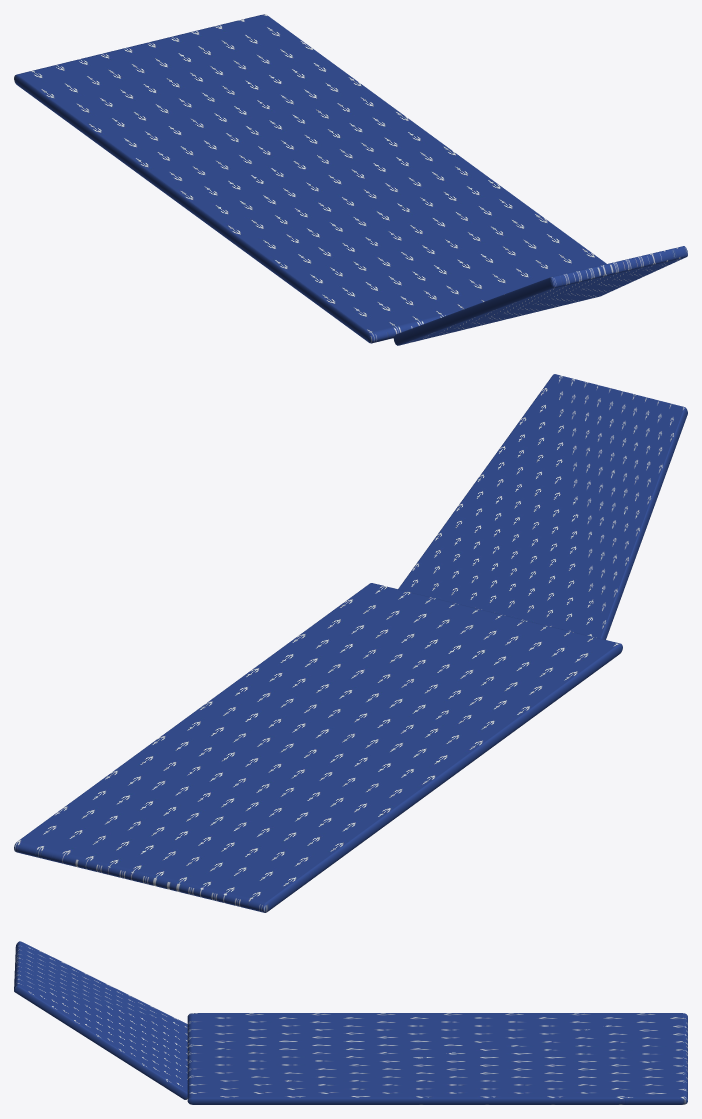
Rendered from cama_almofada.obj.
3 views of the same model, one above another, from view 1: azimuth 30°, elevation 25°; view 2: azimuth 150°, elevation 25°; view 3: azimuth 270°, elevation 25° (orthographic). The views are drawn at different scales.
Visible parts, largest first — view 1: Plane.003_Material.008, Plane.001_Material.006; view 2: Plane.003_Material.008, Plane.001_Material.006; view 3: Plane.003_Material.008, Plane.001_Material.006.
Part boxes in pixels (bbox=[...]): Plane.003_Material.008: bbox=[14, 14, 606, 343]; Plane.001_Material.006: bbox=[393, 246, 687, 345]; Plane.003_Material.008: bbox=[14, 583, 622, 912]; Plane.001_Material.006: bbox=[398, 374, 687, 639]; Plane.003_Material.008: bbox=[187, 1013, 687, 1104]; Plane.001_Material.006: bbox=[14, 941, 187, 1099].
Bounding box in the file's own units: 1.22 × 0.6757 × 4.04.
